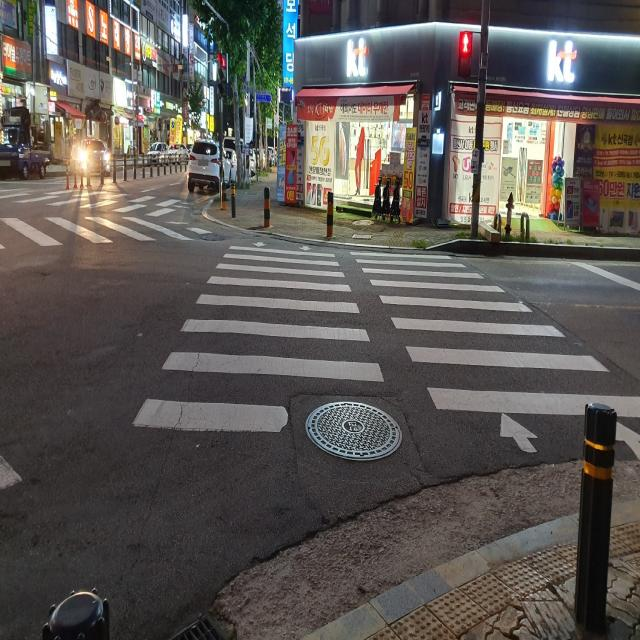빨간불: (454, 30, 478, 83)
횡단보도: (129, 238, 640, 469), (0, 178, 215, 268)
